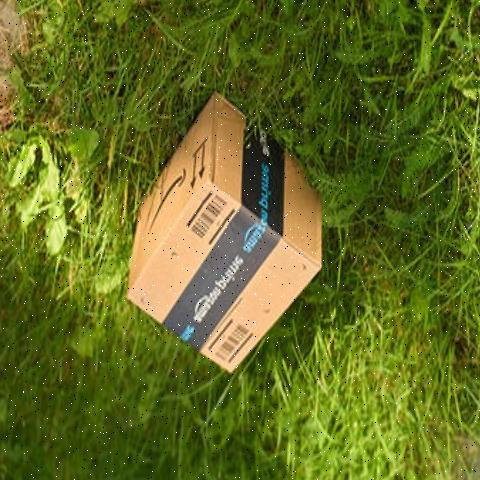Amazon: (124, 91, 328, 376)
